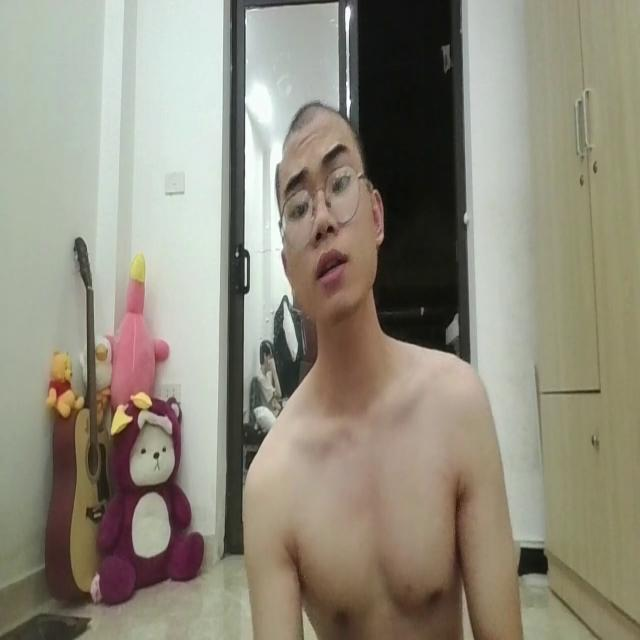student: (224, 93, 536, 640)
